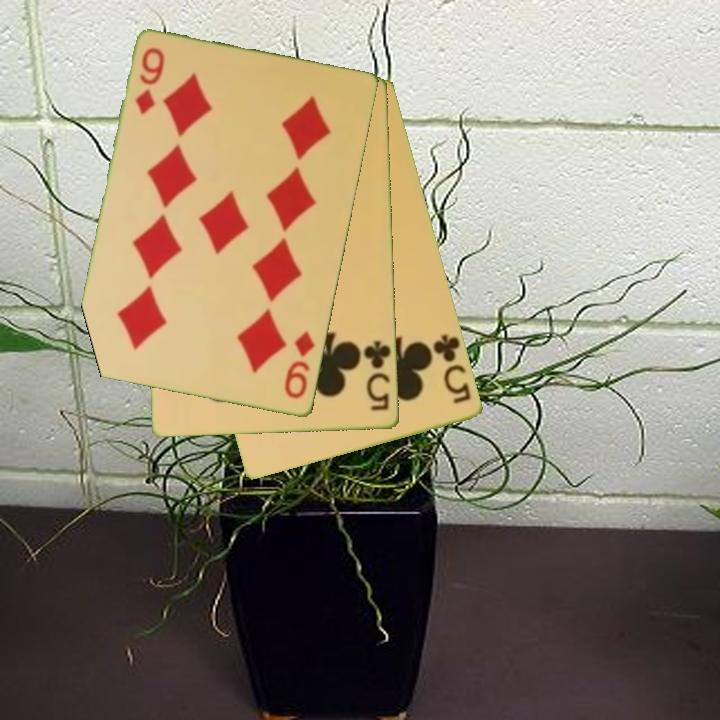5c: (426, 330, 474, 407), (360, 338, 394, 414)
9d: (281, 328, 318, 402), (131, 44, 168, 118)
